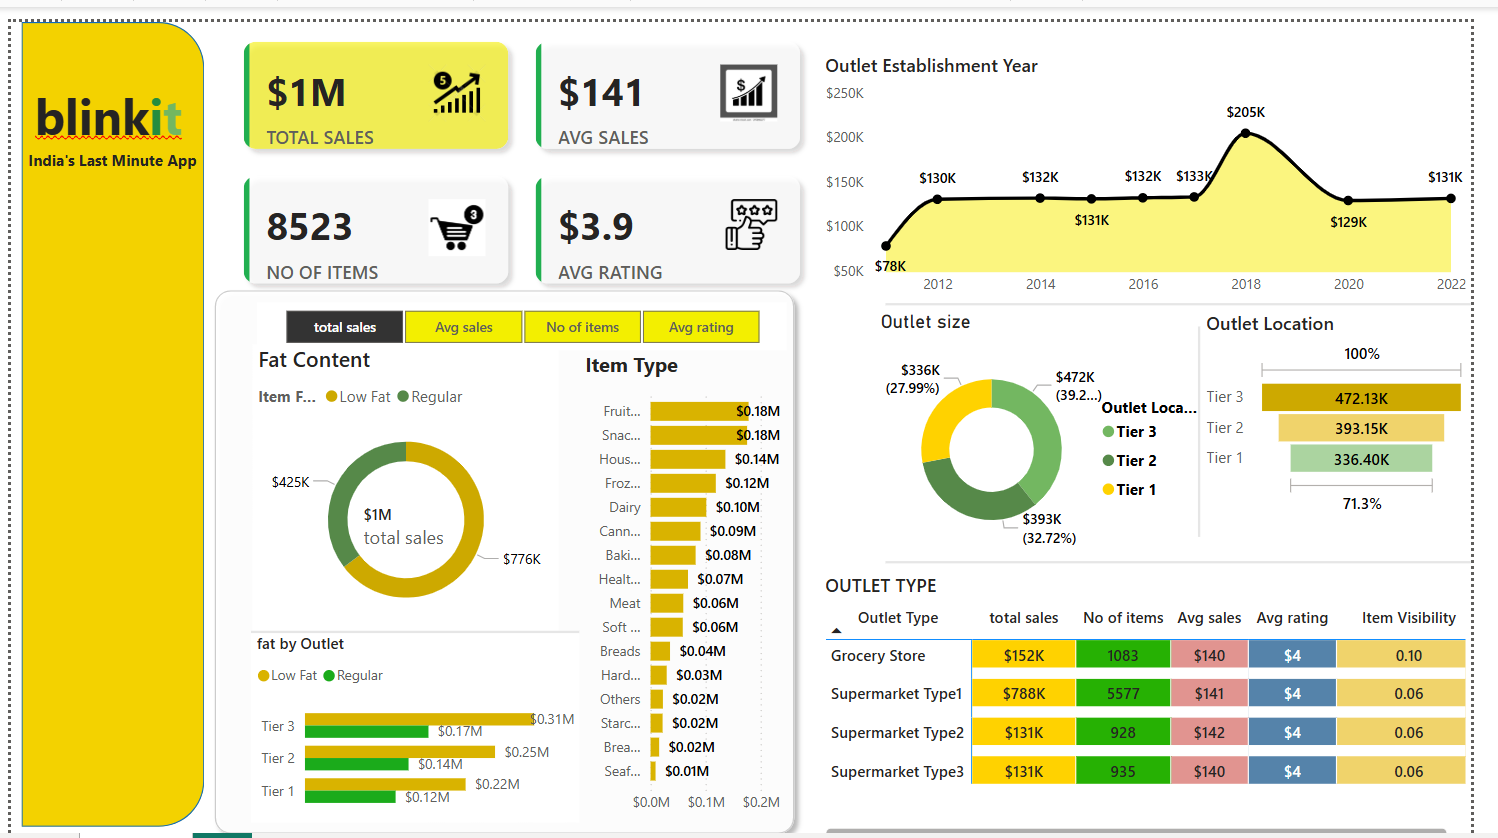

Layout of this report page (visuals, bound fields, positions):
{"tool":"powerbi","page":{"name":"Page 1","canvas":[1280,720],"ordinal":0},"visuals":[{"type":"shape","box":[9.7,0,160.3,706],"z":0},{"type":"textbox","box":[16,46.6,154.3,78.6],"z":1000},{"type":"cardVisual","fields":{"Data":["BlinkIT Grocery Data.total sales","BlinkIT Grocery Data.Avg sales","BlinkIT Grocery Data.No of items","BlinkIT Grocery Data.Avg rating"]},"box":[186.2,0,523,247.7],"z":2000},{"type":"shape","box":[169.7,226.3,526.3,494.7],"z":3000},{"type":"donutChart","title":"Fat Content","fields":{"Y":["BlinkIT Grocery Data.total sales"],"Category":["BlinkIT Grocery Data.Item Fat Content"]},"box":[211.8,282.9,268.4,252.6],"z":4000},{"type":"slicer","fields":{"Values":["metrics.metrics"]},"box":[215.4,246.1,464.7,42.1],"z":5000},{"type":"cardVisual","fields":{"Data":["BlinkIT Grocery Data.total sales"]},"box":[292.1,405.3,107.9,63.2],"z":6000},{"type":"clusteredBarChart","title":"fat by Outlet ","fields":{"Y":["BlinkIT Grocery Data.total sales"],"Category":["BlinkIT Grocery Data.Outlet Location Type"],"Series":["BlinkIT Grocery Data.Item Fat Content"]},"box":[210.5,536,288.2,166.8],"z":7000},{"type":"shape","box":[210.5,492.2,288.2,85.8],"z":8000},{"type":"barChart","title":"Item Type","fields":{"Y":["BlinkIT Grocery Data.total sales"],"Category":["BlinkIT Grocery Data.Item Type"]},"box":[498.7,288.2,197.5,414.5],"z":9000},{"type":"lineChart","title":"Outlet Establishment Year","fields":{"Category":["BlinkIT Grocery Data.Outlet Establishment Year"],"Y":["BlinkIT Grocery Data.total sales"]},"box":[709.2,25.9,571.6,221.8],"z":10000},{"type":"shape","box":[767.5,197.5,513.3,100.4],"z":11000},{"type":"donutChart","title":"Outlet size","fields":{"Y":["BlinkIT Grocery Data.total sales"],"Category":["BlinkIT Grocery Data.Outlet Location Type"]},"box":[757.8,252.6,302.8,225.1],"z":12000},{"type":"funnel","title":"Outlet Location ","fields":{"Category":["BlinkIT Grocery Data.Outlet Location Type"],"Y":["Sum(BlinkIT Grocery Data.Sales)"]},"box":[1042.8,252.6,238,184.6],"z":13000},{"type":"shape","box":[890.6,267.2,302.8,184.6],"z":14000},{"type":"shape","box":[767.5,382.1,513.3,184.6],"z":15000},{"type":"pivotTable","title":"OUTLET TYPE","fields":{"Rows":["BlinkIT Grocery Data.Outlet Type"],"Values":["BlinkIT Grocery Data.total sales","BlinkIT Grocery Data.No of items","BlinkIT Grocery Data.Avg sales","BlinkIT Grocery Data.Avg rating","Avg(BlinkIT Grocery Data.Item Visibility)"]},"box":[709.2,482.5,571.6,238],"z":16000},{"type":"textbox","box":[0,106.9,178.1,37.2],"z":17000}]}

Visuals, with their boxes in screenshot pixels (x1, y1, x2, y2), scaled from the page's 1280x720 canvas onto the 1498x838 screenshot:
shape: crop(11, 0, 199, 822)
textbox: crop(19, 54, 199, 146)
cardVisual - BlinkIT Grocery Data.total sales x BlinkIT Grocery Data.Avg sales: crop(218, 0, 830, 288)
shape: crop(199, 263, 815, 837)
"Fat Content" donutChart: crop(248, 329, 562, 623)
slicer - metrics.metrics: crop(252, 286, 796, 335)
cardVisual - BlinkIT Grocery Data.total sales: crop(342, 472, 468, 545)
"fat by Outlet " clusteredBarChart: crop(246, 624, 584, 818)
shape: crop(246, 573, 584, 673)
"Item Type" barChart: crop(584, 335, 815, 818)
"Outlet Establishment Year" lineChart: crop(830, 30, 1497, 288)
shape: crop(898, 230, 1497, 347)
"Outlet size" donutChart: crop(887, 294, 1241, 556)
"Outlet Location " funnel: crop(1220, 294, 1497, 509)
shape: crop(1042, 311, 1397, 526)
shape: crop(898, 445, 1497, 660)
"OUTLET TYPE" pivotTable: crop(830, 562, 1497, 837)
textbox: crop(0, 124, 208, 168)
